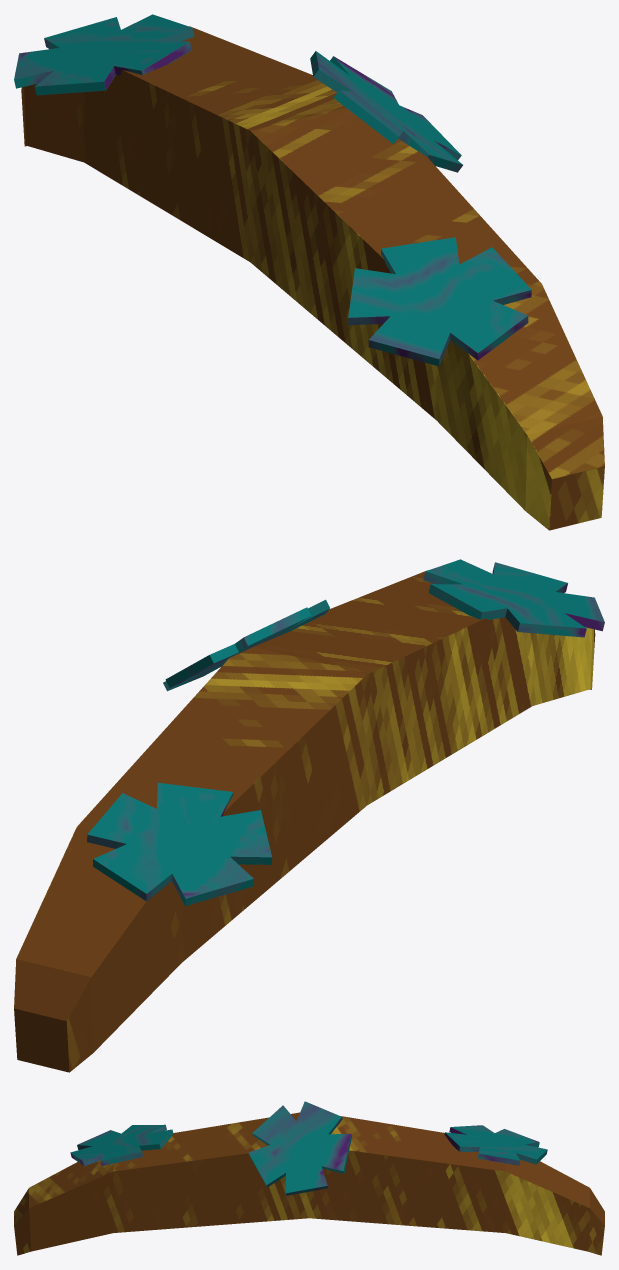
The model's file is Plant3.fbx.
The picture shows the model from 3 angles, top to bottom: view 1: azimuth 30°, elevation 25°; view 2: azimuth 150°, elevation 25°; view 3: azimuth 270°, elevation 25°; orthographic projection. The views are drawn at different scales.
Visible parts, largest first — view 1: Plant3; view 2: Plant3; view 3: Plant3.
Boxes of the visible parts, x1,y1,x2,y2 form: Plant3: (14,14,604,530); Plant3: (14,559,604,1072); Plant3: (14,1101,604,1255).
Size of the model in its own units: 0.8906 by 0.8985 by 3.25.
1 material, 1 textured.
